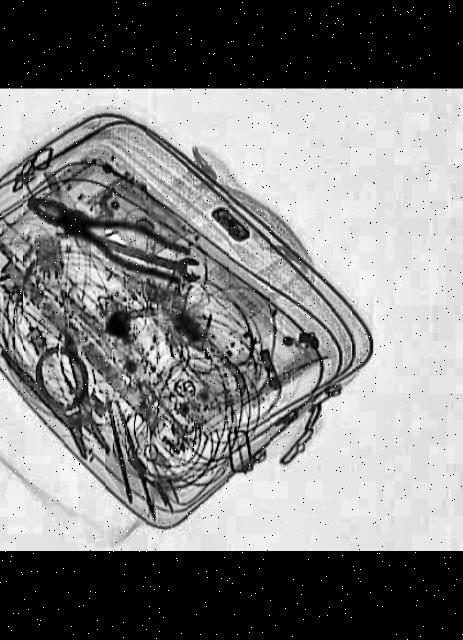Pliers: (16, 184, 204, 291), (0, 324, 135, 472)
Wrench: (56, 219, 206, 284)
